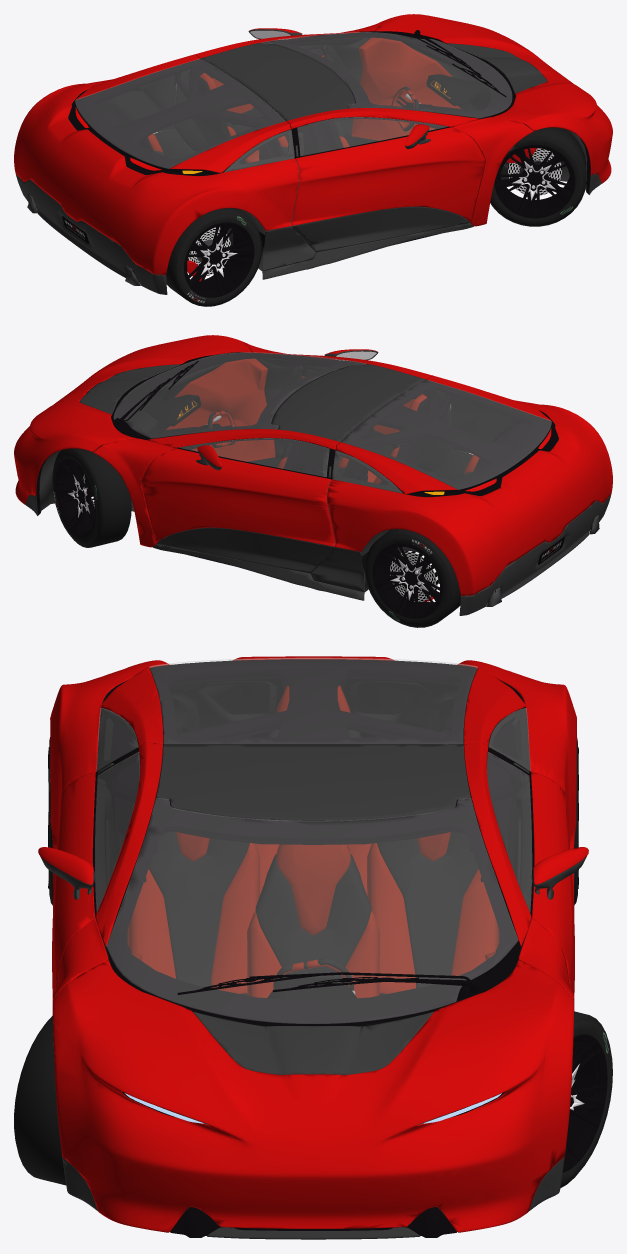
Rendered from concept.glb.
3 renders of one model, top to bottom at view 1: azimuth 30°, elevation 25°; view 2: azimuth 150°, elevation 25°; view 3: azimuth 270°, elevation 25°, orthographic. The views are drawn at different scales.
Parts seen in each view (by area): view 1: object 35, object 42, object 51, object 2, object 45, object 44, object 34, WHEEL| (×2), object 43, object 9, object 36, object 52 (+20 smaller); view 2: object 35, object 42, object 66, object 2, object 45, object 44, WHEEL| (×2), object 34, object 43, object 9, object 36, object 73 (+20 smaller); view 3: object 45, object 2, object 42, object 18, object 19, object 34, object 3, object 35, object 37, object 43, object 36, object 48 (+19 smaller).
Part boxes in pixels (x1,y1,x2,y2): object 35: [14, 54, 299, 274]; object 42: [75, 59, 284, 168]; object 51: [291, 127, 485, 225]; object 2: [261, 32, 511, 117]; object 45: [375, 14, 612, 183]; object 44: [16, 174, 601, 294]; object 34: [201, 43, 354, 121]; WHEEL| (×2): [166, 127, 586, 306]; object 43: [195, 21, 533, 226]; object 9: [351, 37, 460, 140]; object 36: [76, 59, 289, 172]; object 52: [292, 206, 470, 251]; object 35: [327, 375, 612, 595]; object 42: [342, 380, 551, 489]; object 66: [141, 448, 335, 546]; object 2: [114, 352, 365, 438]; object 45: [14, 335, 252, 504]; object 44: [25, 494, 610, 615]; WHEEL| (×2): [52, 448, 460, 627]; object 34: [272, 364, 425, 442]; object 43: [93, 342, 431, 547]; object 9: [166, 358, 275, 461]; object 36: [337, 380, 550, 493]; object 73: [156, 527, 334, 572]; object 45: [53, 960, 573, 1232]; object 2: [107, 798, 517, 1023]; object 42: [149, 658, 477, 744]; object 18: [127, 685, 499, 998]; object 19: [148, 712, 478, 995]; object 34: [156, 744, 470, 821]; object 3: [106, 799, 520, 1026]; object 35: [50, 656, 576, 849]; object 37: [96, 678, 534, 859]; object 43: [52, 742, 574, 1014]; object 36: [102, 659, 525, 748]; object 48: [193, 1011, 433, 1074].
Bounding box in the file's own units: 4.65 × 1.23 × 2.71.
Materials: 23 (6 with a texture image).
